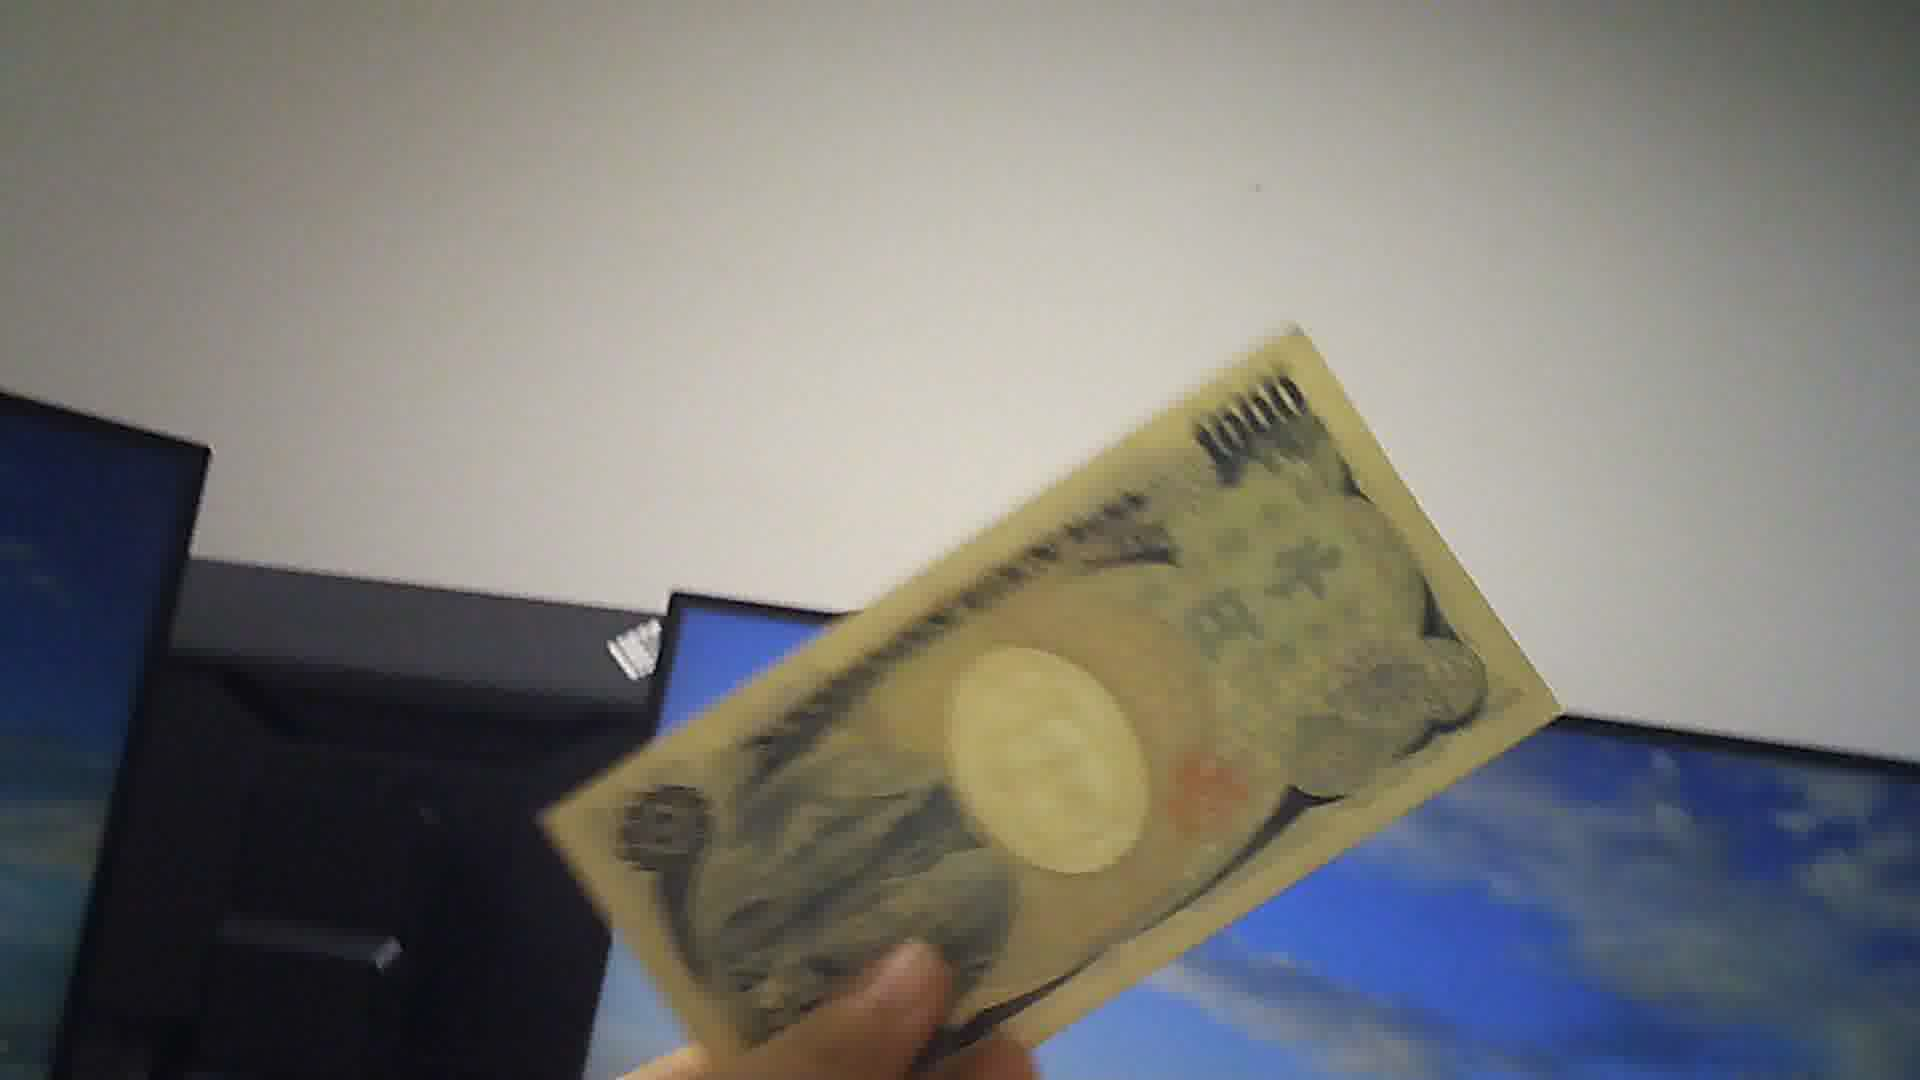1,000 Yen: (520, 343, 1567, 1069)
